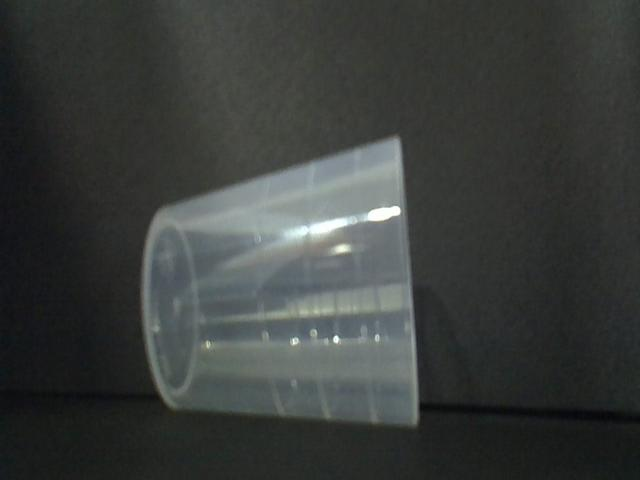cup: (134, 131, 435, 436)
